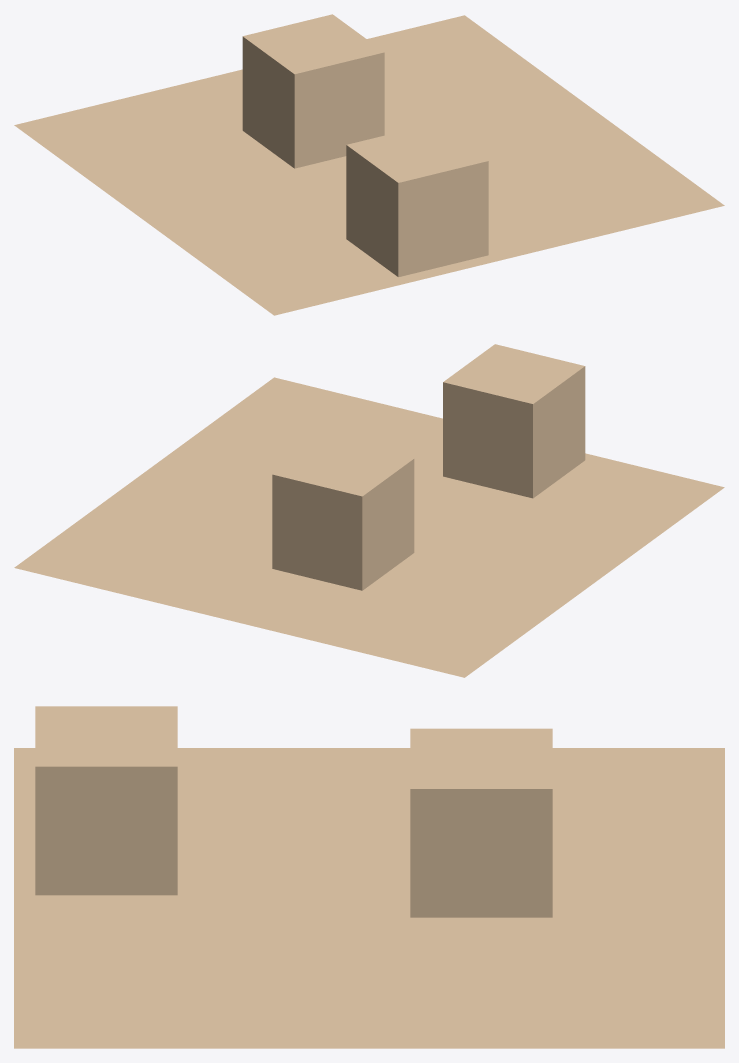
The model's file is generated_world.fbx.
3 views of the same model, one above another, from view 1: azimuth 30°, elevation 25°; view 2: azimuth 150°, elevation 25°; view 3: azimuth 270°, elevation 25° (orthographic). The views are drawn at different scales.
Visible parts, largest first — view 1: farm, house, house.001; view 2: farm, house.001, house; view 3: farm, house, house.001.
Part boxes in pixels (left/top/right/bottom): farm: left=14, top=15, right=724, bottom=315; house: left=346, top=123, right=488, bottom=277; house.001: left=242, top=14, right=384, bottom=168; farm: left=14, top=377, right=724, bottom=677; house.001: left=272, top=436, right=414, bottom=590; house: left=443, top=344, right=585, bottom=498; farm: left=14, top=748, right=724, bottom=1048; house: left=35, top=706, right=177, bottom=895; house.001: left=410, top=728, right=552, bottom=917.
Bounding box in the file's own units: 5000 × 1005 × 5000.
